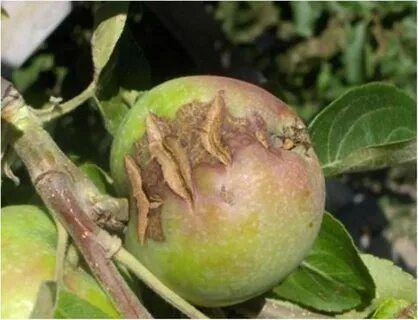Apple: (108, 72, 326, 306)
